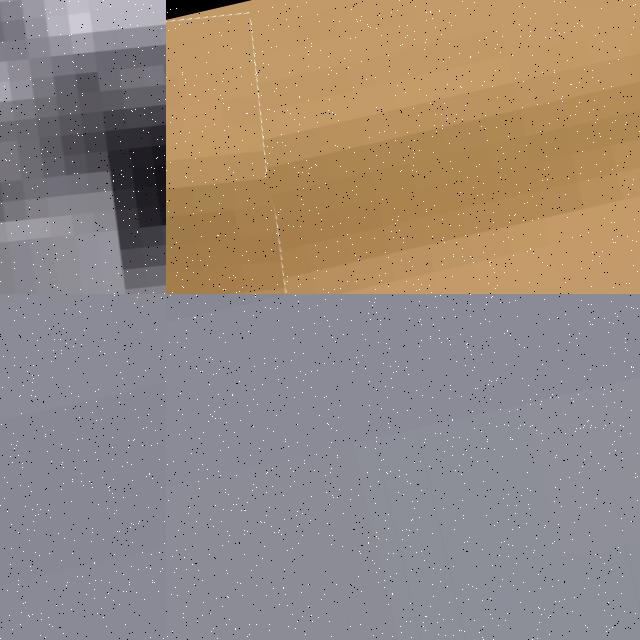0: (0, 0, 166, 294)
drone: (166, 5, 371, 294)
